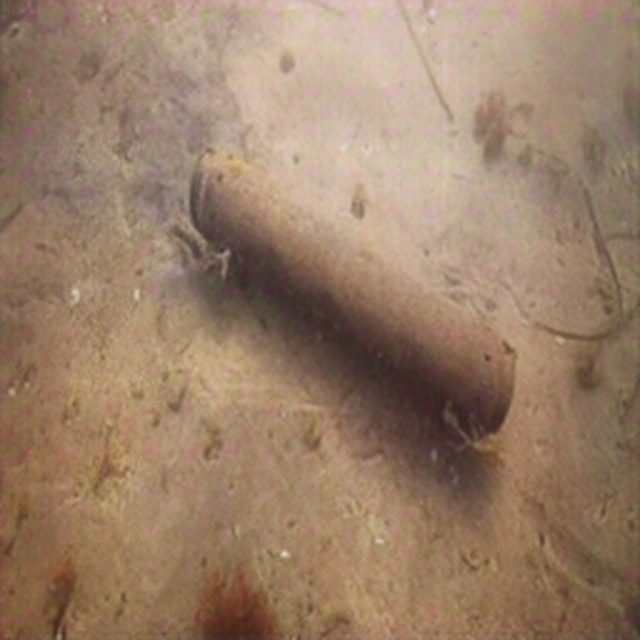mine: (187, 143, 517, 437)
